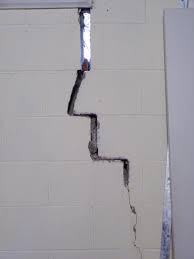stairstep_crack: (64, 7, 145, 258)
